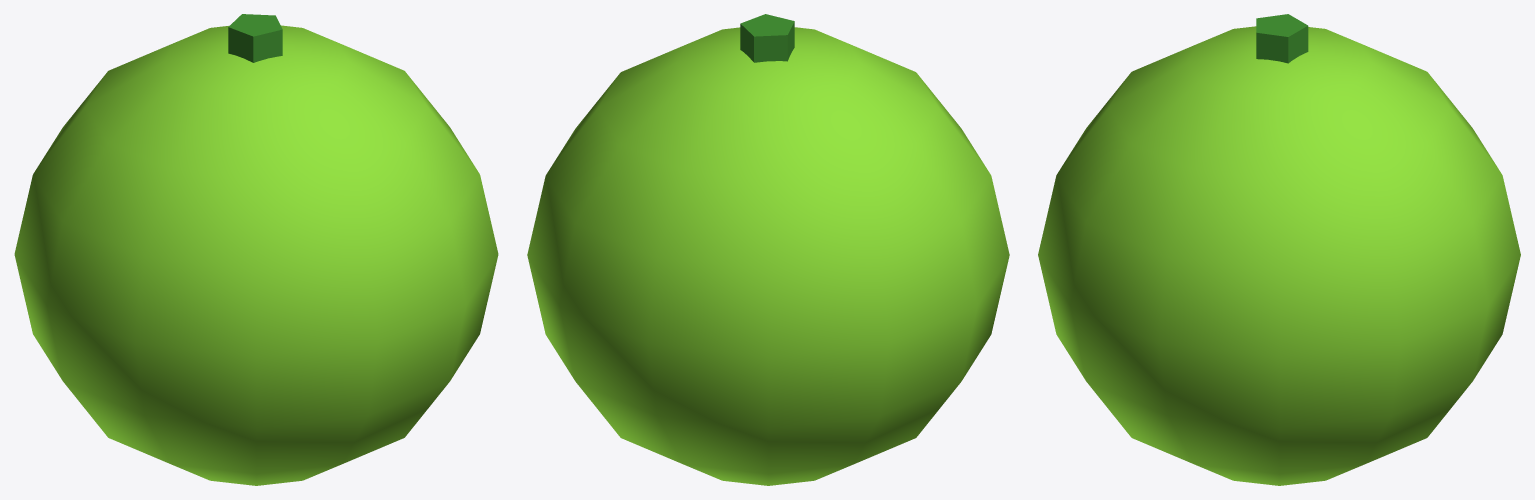
File: Lime.fbx
The picture shows the model from 3 angles, left to right: view 1: azimuth 30°, elevation 25°; view 2: azimuth 150°, elevation 25°; view 3: azimuth 270°, elevation 25°; orthographic projection.
Visible parts, largest first — view 1: Lime; view 2: Lime; view 3: Lime.
Boxes of the visible parts, x1=… form: Lime: x1=14, y1=14, x2=498, y2=485; Lime: x1=527, y1=14, x2=1009, y2=485; Lime: x1=1038, y1=14, x2=1520, y2=485.
Bounding box in the file's own units: 0.84 × 0.839 × 0.84.
Materials: 1 (1 with a texture image).
